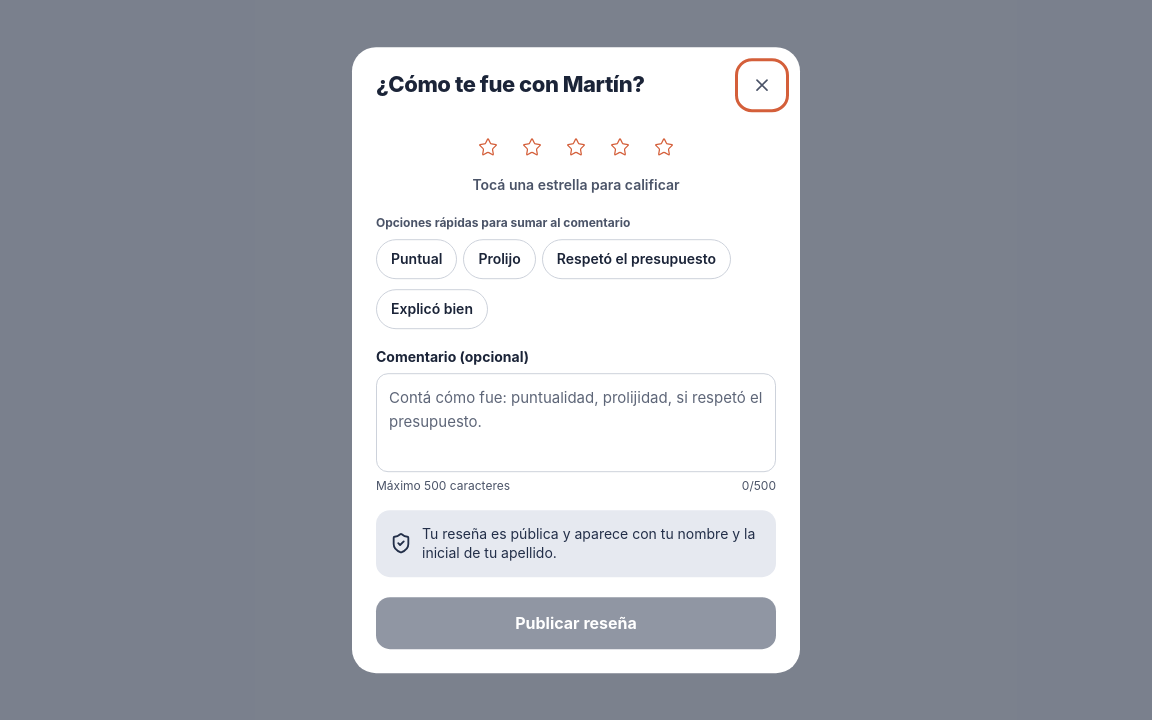
Test: HojaResena › muestra error cuando la acción falla
The image size is (1152, 720).
Click the radio button named "Bien".
click(620, 147)  # box [598, 125, 642, 169]
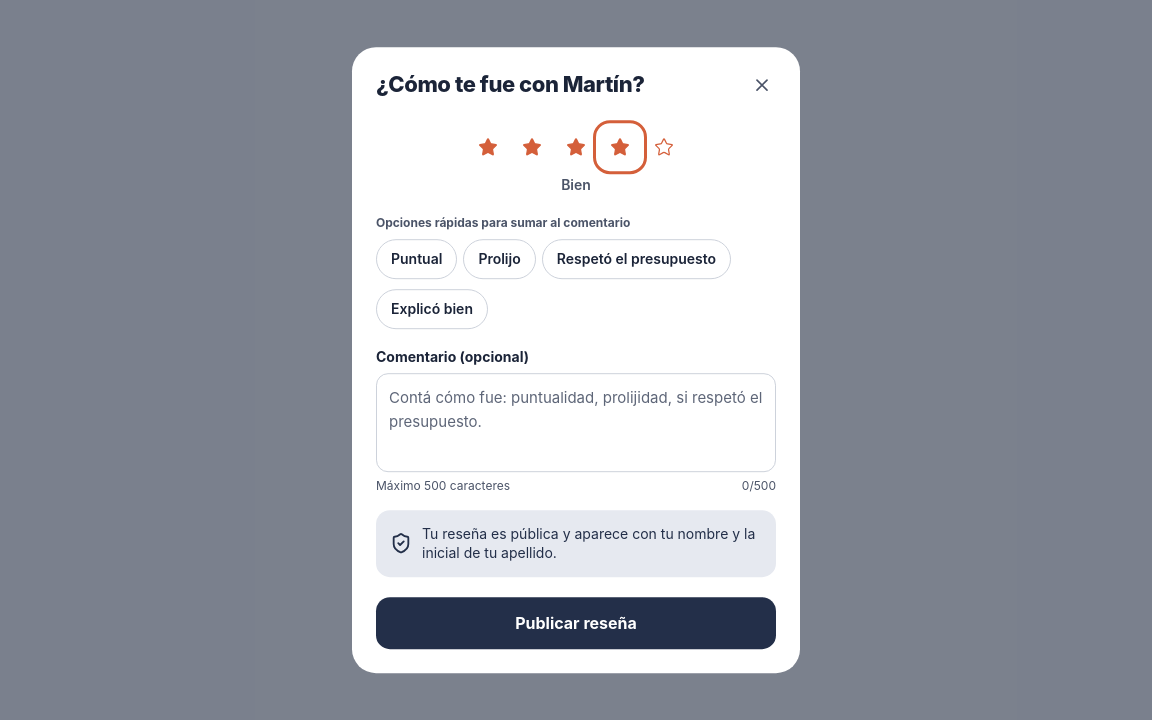
Click the button "Publicar reseña".
click(576, 623)  # box [376, 597, 776, 649]
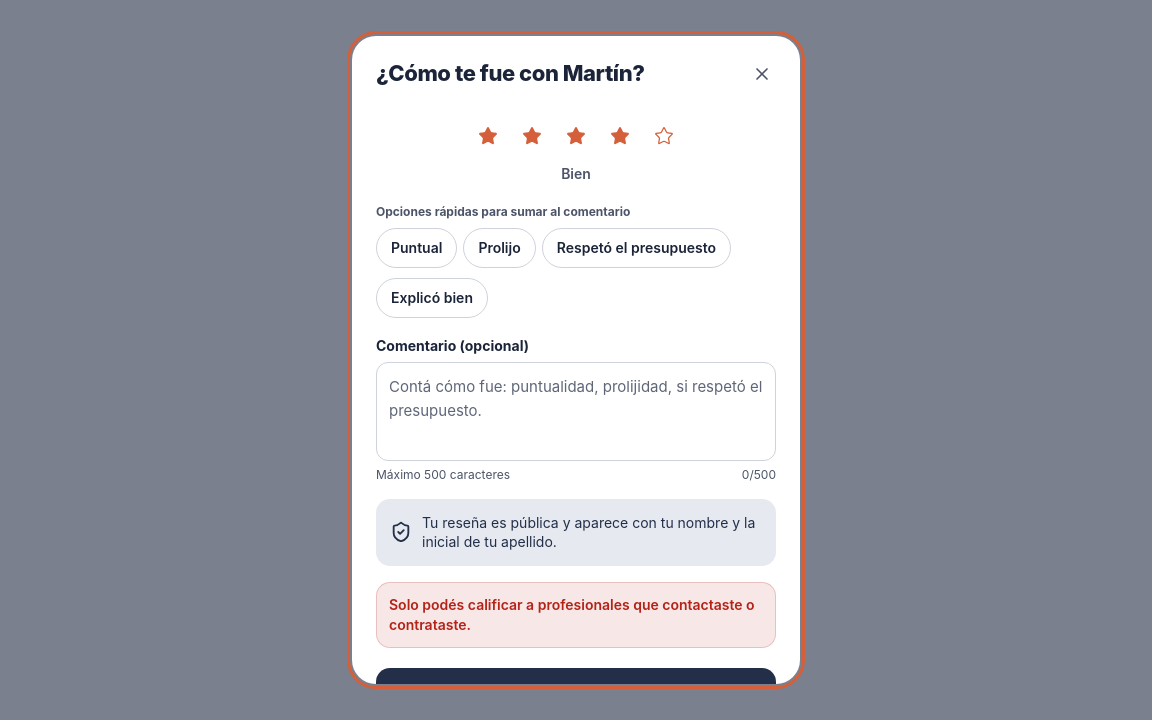
Check: the text "Solo podés calificar a profesionales que contactaste o contrataste." is shown, box [376, 582, 776, 648]
